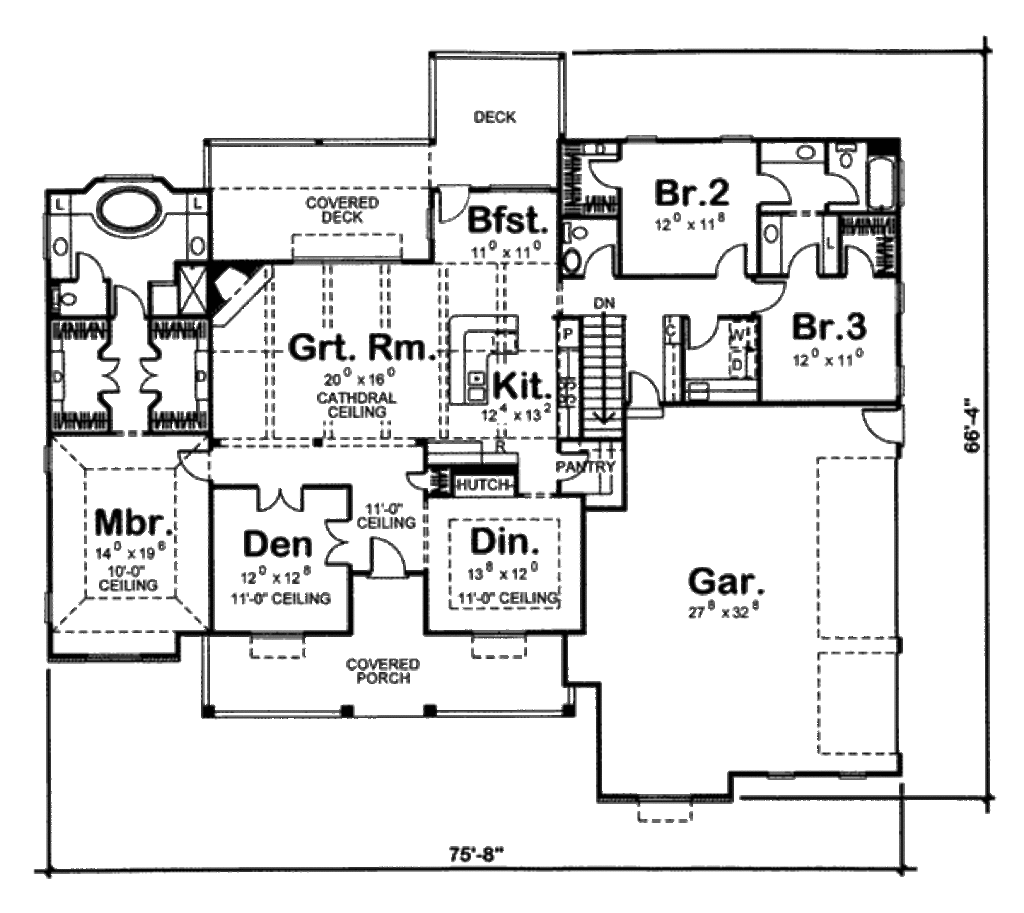door: (625, 362, 666, 427), (104, 276, 149, 326), (365, 532, 408, 583), (437, 182, 479, 229), (703, 242, 754, 279), (255, 479, 307, 515), (819, 172, 863, 213), (552, 441, 591, 487), (863, 406, 902, 451), (752, 168, 792, 210), (583, 244, 625, 284), (680, 317, 724, 355), (781, 240, 822, 280), (169, 448, 213, 483), (321, 517, 351, 565), (754, 277, 790, 315), (66, 249, 105, 283), (588, 155, 626, 189), (135, 356, 168, 395), (96, 355, 125, 399), (847, 246, 881, 282), (401, 461, 434, 493)
large_sink: (50, 283, 87, 314), (834, 138, 864, 175), (559, 218, 589, 243)
small_sink: (755, 207, 787, 278), (756, 134, 825, 161), (181, 211, 209, 260), (561, 242, 586, 279)
stairs: (561, 306, 618, 446), (569, 313, 618, 431)
window: (86, 649, 150, 670), (467, 624, 533, 641), (35, 586, 61, 627), (38, 444, 66, 479)
